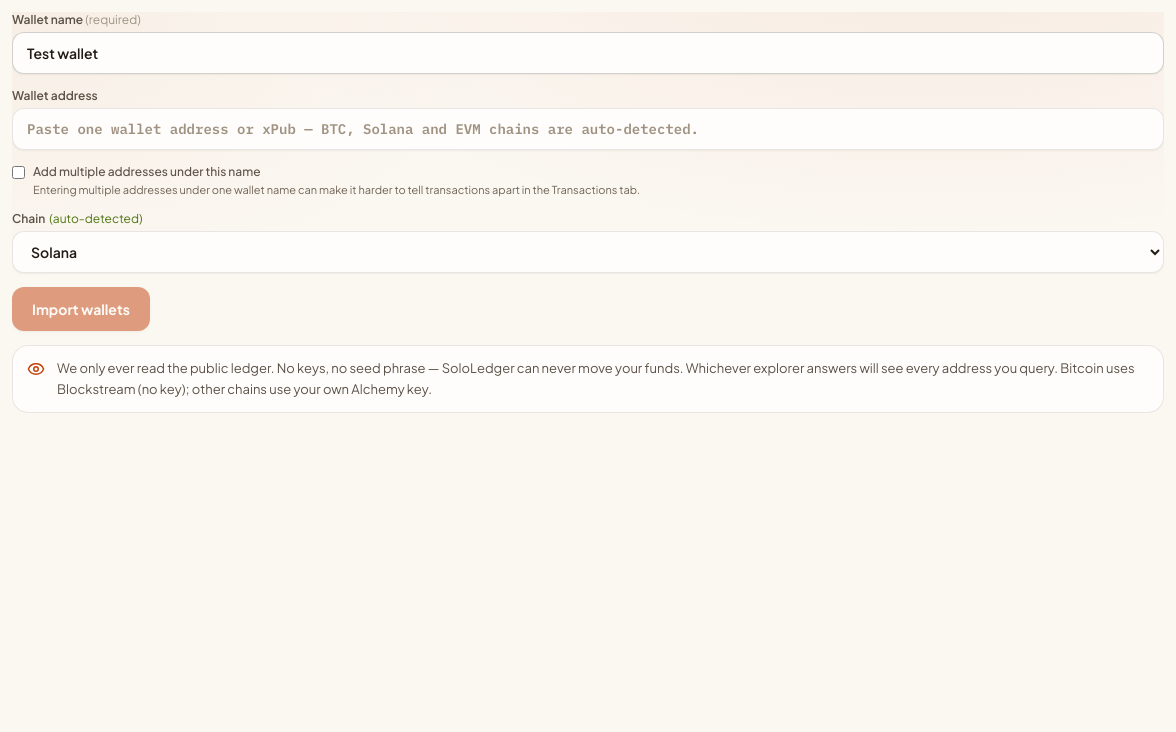
Test: WalletAddressForm — duplicate-wallet short-circuit › EVM wallet imported on every EVM chain: no detection, prominent callout, popup toast, Import disabled
Replace the text in the field labelled "Wallet address" with "0xaaaaaaaaaaaaaaaaaaaaaaaaaaaaaaaaaaaaaaaa" at coordinates (588, 129), box [12,108,1164,150]
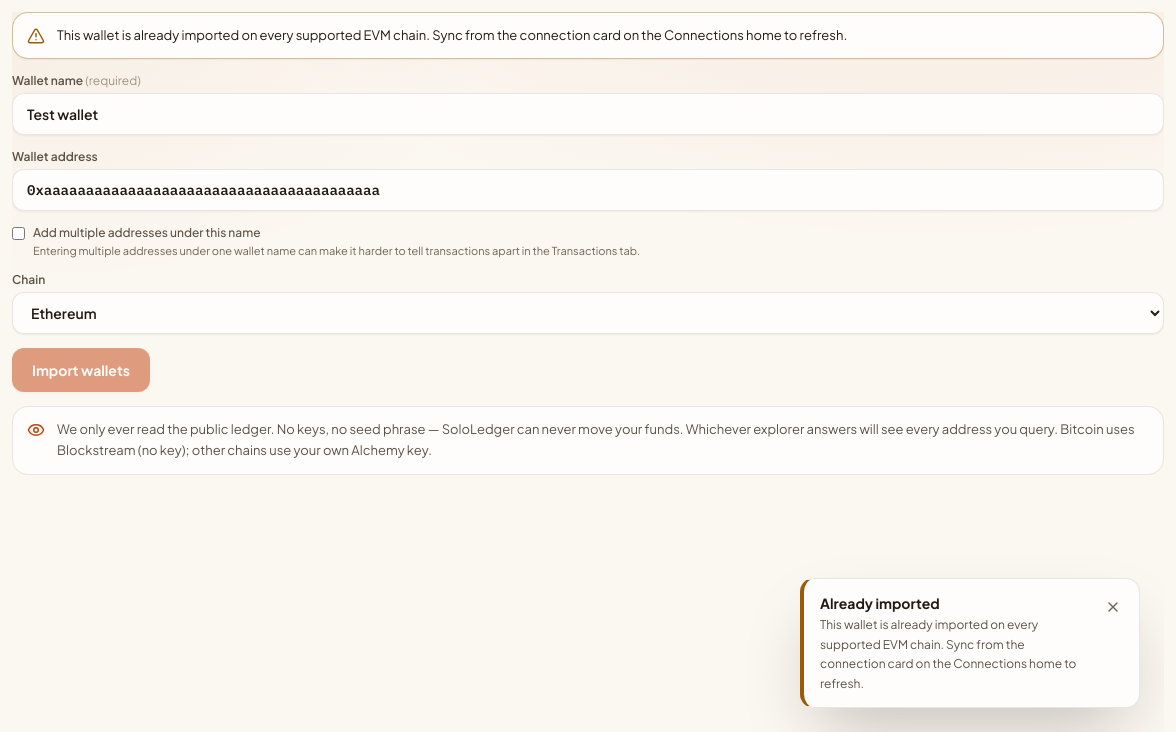
expect the message with test id "duplicate-wallet-warning" shows "This wallet is already imported on every supported EVM chain. Sync from the connection card on the Connections home to refresh.": met, box [57,27,847,43]
expect the message that starts with "Already imported" is shown: met, box [820,594,940,612]
expect the message that starts with "Already imported" shows "This wallet is already imported on every supported EVM chain.": met, box [820,617,1076,690]
